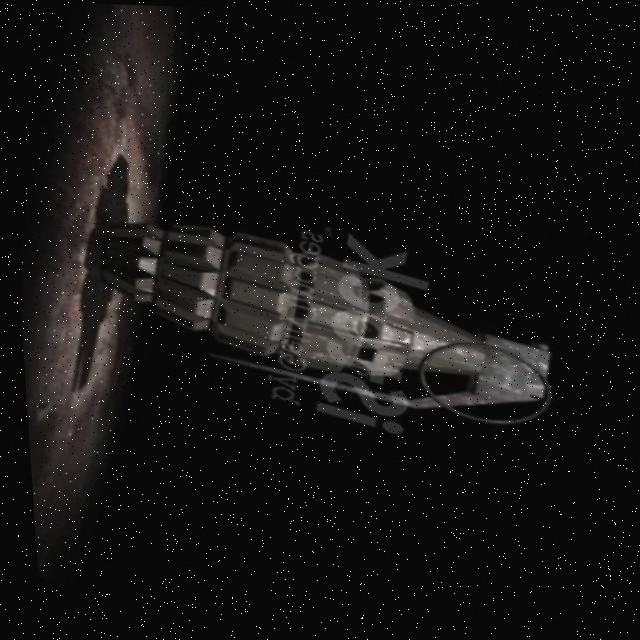grenade: (75, 188, 581, 451)
